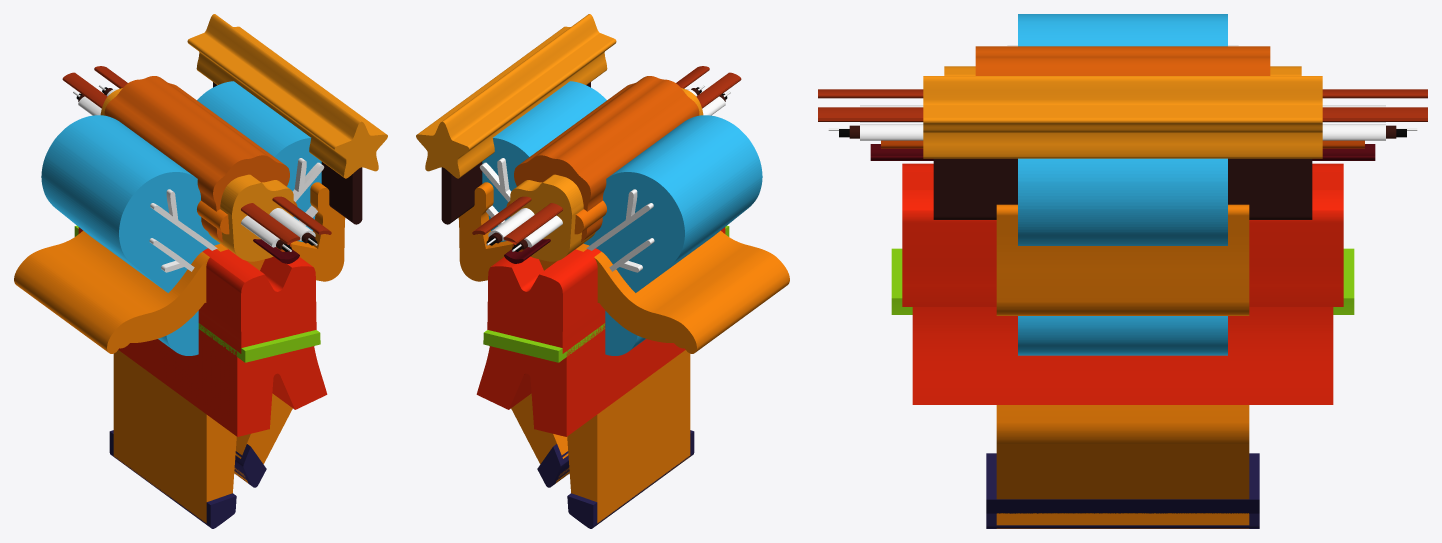
3 renders of one model, left to right at view 1: azimuth 30°, elevation 25°; view 2: azimuth 150°, elevation 25°; view 3: azimuth 270°, elevation 25°, orthographic. The views are drawn at different scales.
Visible parts, largest first — view 1: U+1F9DA_layer02_obj00, U+1F9DA_layer00_obj00, U+1F9DA_layer09_obj00, U+1F9DA_layer10_obj00, U+1F9DA_layer04_obj00, U+1F9DA_layer11_obj00, U+1F9DA_layer07_obj00, U+1F9DA_layer19_obj00, U+1F9DA_layer01_obj00, U+1F9DA_layer03_obj00, U+1F9DA_layer08_obj00, U+1F9DA_layer12_obj00 (+3 smaller); view 2: U+1F9DA_layer02_obj00, U+1F9DA_layer00_obj00, U+1F9DA_layer09_obj00, U+1F9DA_layer10_obj00, U+1F9DA_layer04_obj00, U+1F9DA_layer11_obj00, U+1F9DA_layer07_obj00, U+1F9DA_layer19_obj00, U+1F9DA_layer01_obj00, U+1F9DA_layer03_obj00, U+1F9DA_layer08_obj00, U+1F9DA_layer12_obj00 (+3 smaller); view 3: U+1F9DA_layer02_obj00, U+1F9DA_layer00_obj00, U+1F9DA_layer09_obj00, U+1F9DA_layer10_obj00, U+1F9DA_layer11_obj00, U+1F9DA_layer08_obj00, U+1F9DA_layer04_obj00, U+1F9DA_layer03_obj00, U+1F9DA_layer19_obj00, U+1F9DA_layer15_obj00, U+1F9DA_layer12_obj00, U+1F9DA_layer14_obj00 (+1 smaller).
Boxes of the visible parts, left/top/right/bottom form: U+1F9DA_layer02_obj00: left=14, top=182, right=345, bottom=523; U+1F9DA_layer00_obj00: left=41, top=81, right=321, bottom=355; U+1F9DA_layer09_obj00: left=187, top=14, right=387, bottom=178; U+1F9DA_layer10_obj00: left=118, top=325, right=327, bottom=436; U+1F9DA_layer04_obj00: left=104, top=76, right=289, bottom=241; U+1F9DA_layer11_obj00: left=78, top=227, right=316, bottom=353; U+1F9DA_layer07_obj00: left=100, top=88, right=293, bottom=261; U+1F9DA_layer19_obj00: left=62, top=66, right=331, bottom=244; U+1F9DA_layer01_obj00: left=149, top=158, right=324, bottom=272; U+1F9DA_layer03_obj00: left=109, top=430, right=266, bottom=528; U+1F9DA_layer08_obj00: left=213, top=82, right=362, bottom=224; U+1F9DA_layer12_obj00: left=74, top=225, right=320, bottom=362; U+1F9DA_layer02_obj00: left=458, top=182, right=789, bottom=523; U+1F9DA_layer00_obj00: left=482, top=81, right=762, bottom=355; U+1F9DA_layer09_obj00: left=416, top=14, right=616, bottom=178; U+1F9DA_layer10_obj00: left=476, top=323, right=685, bottom=436; U+1F9DA_layer04_obj00: left=514, top=76, right=699, bottom=241; U+1F9DA_layer11_obj00: left=487, top=227, right=725, bottom=353; U+1F9DA_layer07_obj00: left=510, top=88, right=703, bottom=261; U+1F9DA_layer19_obj00: left=472, top=66, right=741, bottom=244; U+1F9DA_layer01_obj00: left=479, top=158, right=654, bottom=272; U+1F9DA_layer03_obj00: left=537, top=430, right=694, bottom=528; U+1F9DA_layer08_obj00: left=441, top=82, right=590, bottom=224; U+1F9DA_layer12_obj00: left=483, top=225, right=729, bottom=362; U+1F9DA_layer02_obj00: left=996, top=204, right=1249, bottom=528; U+1F9DA_layer00_obj00: left=1018, top=14, right=1227, bottom=355; U+1F9DA_layer09_obj00: left=923, top=76, right=1322, bottom=158; U+1F9DA_layer10_obj00: left=912, top=307, right=1333, bottom=404; U+1F9DA_layer11_obj00: left=902, top=163, right=1343, bottom=306; U+1F9DA_layer08_obj00: left=933, top=158, right=1312, bottom=219; U+1F9DA_layer04_obj00: left=975, top=46, right=1270, bottom=75; U+1F9DA_layer03_obj00: left=986, top=453, right=1259, bottom=528; U+1F9DA_layer19_obj00: left=818, top=89, right=1427, bottom=121; U+1F9DA_layer15_obj00: left=860, top=105, right=1385, bottom=140; U+1F9DA_layer12_obj00: left=891, top=248, right=1354, bottom=314; U+1F9DA_layer14_obj00: left=870, top=144, right=1375, bottom=160.
Bounding box in the file's own units: 0.3782 × 0.5607 × 0.58.
